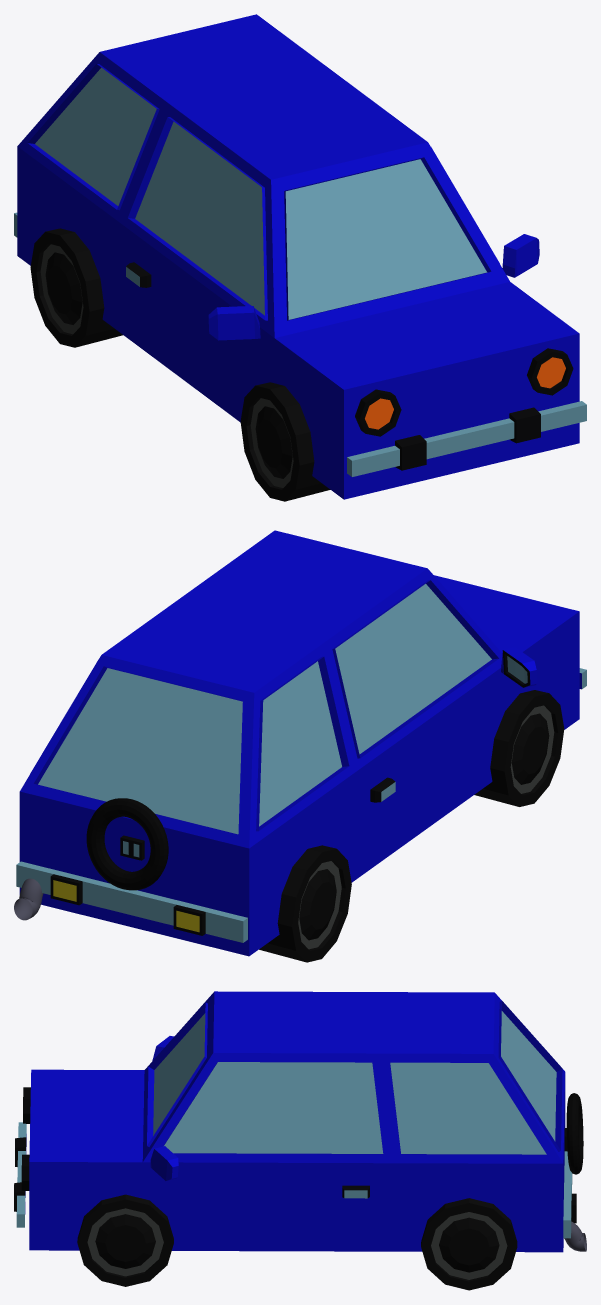
Rendered from mobil.obj.
3 views of the same model, one above another, from view 1: azimuth 30°, elevation 25°; view 2: azimuth 150°, elevation 25°; view 3: azimuth 270°, elevation 25° (orthographic). The views are drawn at different scales.
Parts seen in each view (by area): view 1: Cube.041_Cube.010, Cylinder.020_Cylinder.017, Cylinder.019_Cylinder.016; view 2: Cube.041_Cube.010, Cylinder.020_Cylinder.017, Torus, BezierCurve.005_BezierCurve.004; view 3: Cube.041_Cube.010, Cylinder.018_Cylinder.015, Torus, Cylinder.019_Cylinder.016, BezierCurve.005_BezierCurve.004.
Boxes of the visible parts, x1,y1,x2,y2 form: Cube.041_Cube.010: [14, 14, 586, 499]; Cylinder.020_Cylinder.017: [30, 228, 330, 501]; Cylinder.019_Cylinder.016: [355, 348, 573, 436]; Cube.041_Cube.010: [16, 530, 586, 956]; Cylinder.020_Cylinder.017: [259, 690, 564, 962]; Torus: [86, 798, 168, 890]; BezierCurve.005_BezierCurve.004: [14, 878, 43, 920]; Cube.041_Cube.010: [14, 991, 576, 1252]; Cylinder.018_Cylinder.015: [77, 1194, 517, 1290]; Torus: [566, 1093, 583, 1174]; Cylinder.019_Cylinder.016: [21, 1087, 30, 1190]; BezierCurve.005_BezierCurve.004: [564, 1221, 586, 1251].
Bounding box in the file's own units: 2.8 × 2.19 × 5.25.
